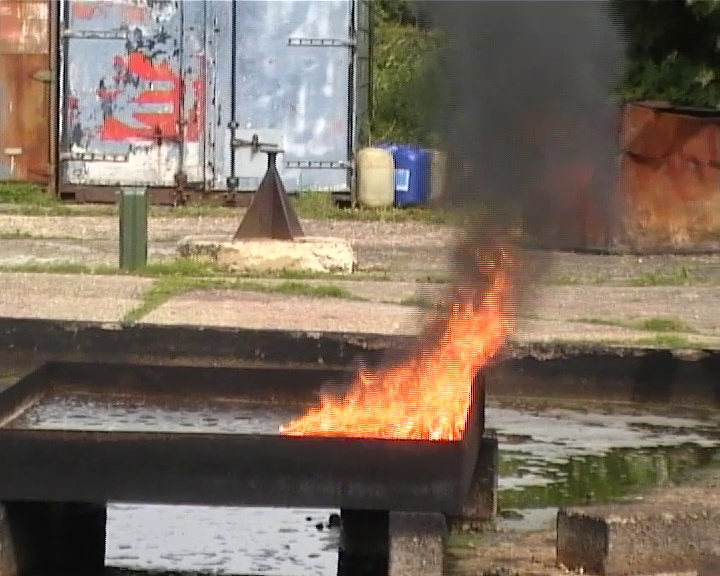fire: (283, 289, 496, 437)
